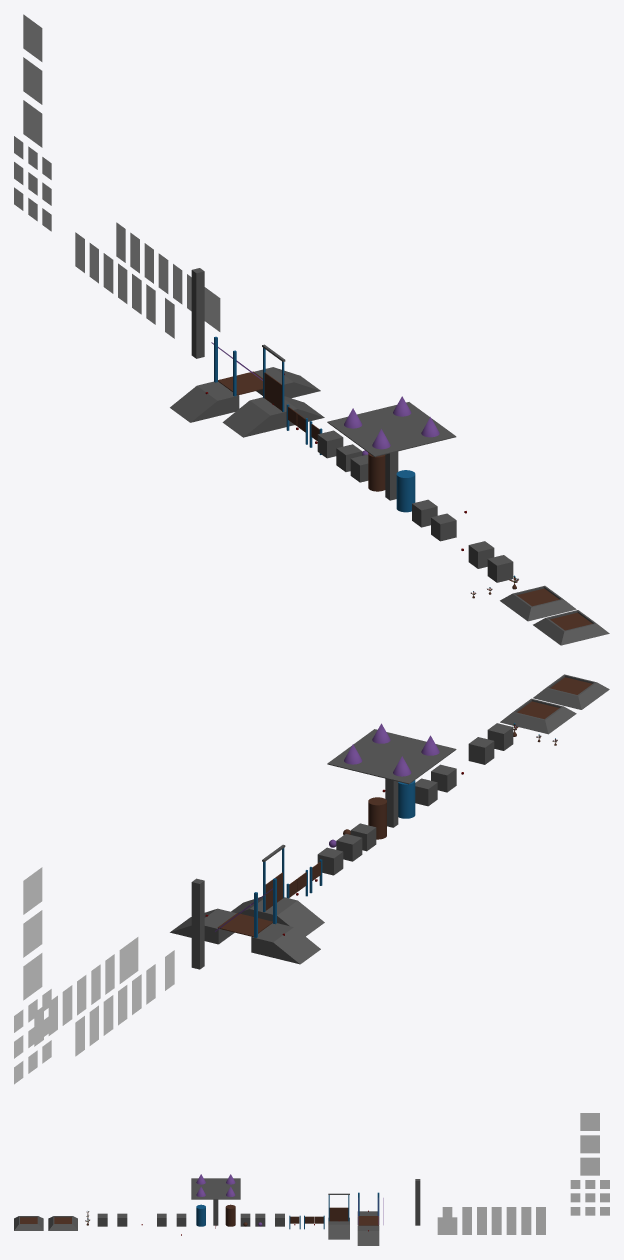
File: FoundationEBF.fbx
3 views of the same model, one above another, from view 1: azimuth 30°, elevation 25°; view 2: azimuth 150°, elevation 25°; view 3: azimuth 270°, elevation 25° (orthographic). The views are drawn at different scales.
Parts seen in each view (by area): view 1: Cube.018, Cube.009, LOD_0123, Cube.014, LOD_012, Cube.026, Cube.024, Cube.027, Cube.017; view 2: Cube.018, LOD_0123, Cube.014, LOD_012, Cube.024, Cube.026, Cube.009, Cube.027, Cube.017, Drawbridge, DefaultUnit, Cylinder.001 (+8 smaller); view 3: LOD_0123, Cube.018, LOD_012, Cube.017, Cube.024, Cube.026, Cube.009, DefaultUnit, Door.001, Cube.027, Cylinder.001, Cylinder (+1 smaller).
Boxes of the visible parts, bbox=[...] form: Cube.018: bbox=[327, 402, 456, 456]; Cube.009: bbox=[222, 396, 324, 437]; LOD_0123: bbox=[23, 14, 42, 147]; Cube.014: bbox=[170, 381, 239, 422]; LOD_012: bbox=[14, 136, 51, 231]; Cube.026: bbox=[500, 585, 576, 621]; Cube.024: bbox=[533, 610, 609, 645]; Cube.027: bbox=[191, 268, 204, 358]; Cube.017: bbox=[254, 367, 320, 398]; Cube.018: bbox=[327, 729, 456, 784]; LOD_0123: bbox=[23, 867, 42, 1000]; Cube.014: bbox=[251, 923, 320, 964]; LOD_012: bbox=[14, 989, 51, 1084]; Cube.024: bbox=[533, 674, 609, 709]; Cube.026: bbox=[500, 698, 576, 734]; Cube.009: bbox=[231, 897, 324, 936]; Cube.027: bbox=[191, 878, 204, 969]; Cube.017: bbox=[170, 908, 236, 944]; Drawbridge: bbox=[217, 913, 272, 936]; DefaultUnit: bbox=[119, 937, 138, 983]; Cylinder.001: bbox=[368, 797, 386, 839]; LOD_0123: bbox=[580, 1113, 599, 1175]; Cube.018: bbox=[191, 1178, 240, 1199]; LOD_012: bbox=[570, 1180, 609, 1215]; Cube.017: bbox=[357, 1225, 379, 1245]; Cube.024: bbox=[14, 1216, 43, 1230]; Cube.026: bbox=[48, 1216, 77, 1230]; Cube.009: bbox=[328, 1217, 349, 1239]; DefaultUnit: bbox=[437, 1217, 457, 1234]; Door.001: bbox=[329, 1207, 348, 1221]; Cube.027: bbox=[415, 1179, 420, 1225]; Cylinder.001: bbox=[225, 1204, 235, 1226]; Cylinder: bbox=[196, 1204, 205, 1226].
Size of what is drawn, in the model's own units: 12100 by 2600 by 1600.
